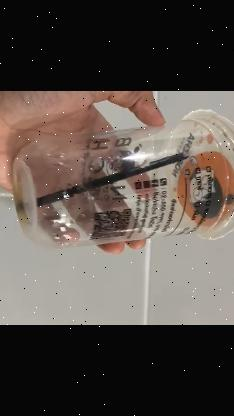Others: (11, 109, 234, 250)
